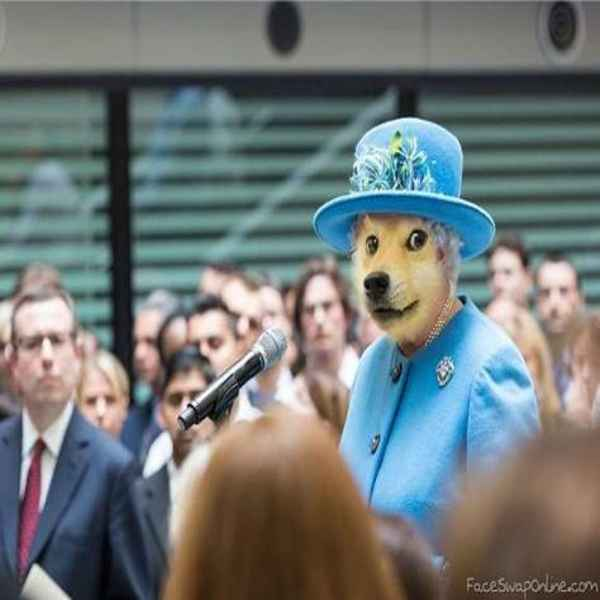doge: (346, 216, 448, 341)
